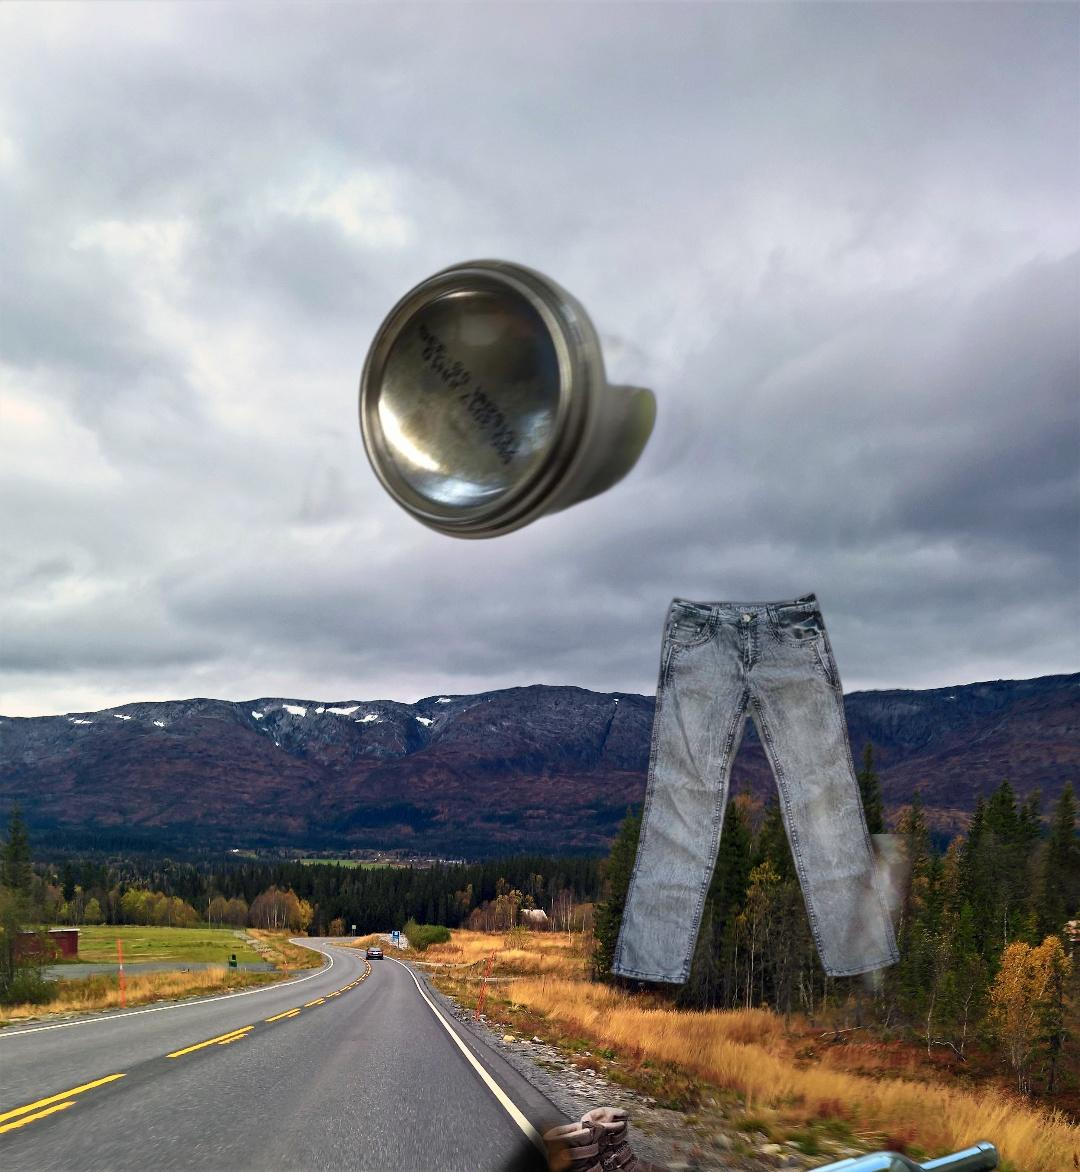clothes: (607, 588, 904, 990)
glass: (685, 1133, 1004, 1172)
metal-cans: (248, 254, 707, 543)
shoes: (539, 1103, 681, 1172)
trashbox-cardboard: (286, 834, 1080, 1172)
